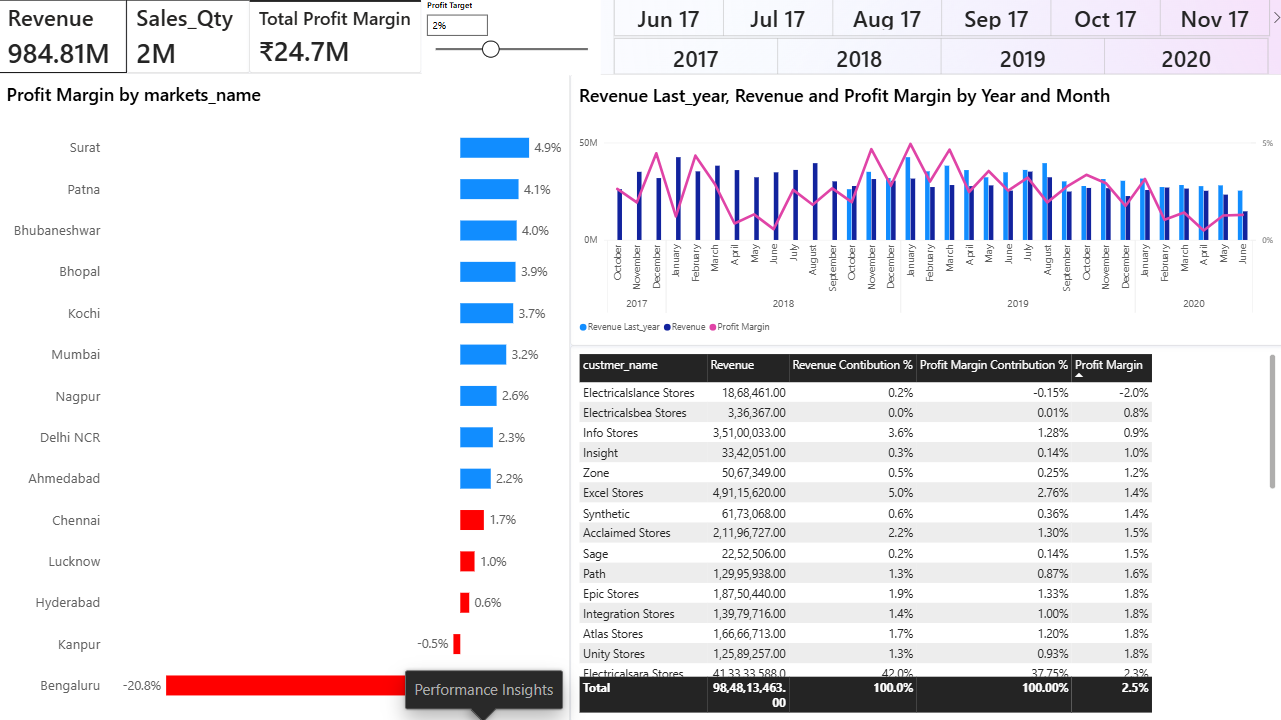

The page's visual inventory and layout, read from the dashboard file:
{"tool":"powerbi","page":{"name":"Performance Insights","canvas":[1920,1080],"ordinal":2},"visuals":[{"type":"cardVisual","fields":{"Data":["Base_Measure.Revenue"]},"box":[0,0,191.4,112.3],"z":0},{"type":"cardVisual","fields":{"Data":["Base_Measure.Sales_Qty"]},"box":[191.4,0,184.1,112.3],"z":1000},{"type":"advancedSlicerVisual","fields":{"Values":["sales date.year"]},"box":[899.4,59.7,1020.7,54.1],"z":4000},{"type":"advancedSlicerVisual","fields":{"Values":["sales date.cy_date"]},"box":[899.4,0,1020.7,57.8],"z":5000},{"type":"tableEx","title":"Top 5 customres","fields":{"Values":["sales customers.custmer_name","Base_Measure.Revenue","Base_Measure.Revenue Contibution %","Base_Measure.Profit Margin Contribution %","Base_Measure.Profit Margin"]},"box":[854,519,1065.6,561.4],"z":6000},{"type":"lineClusteredColumnComboChart","fields":{"Category":["sales date.cy_date.Variation.Date Hierarchy.Year","sales date.cy_date.Variation.Date Hierarchy.Month"],"Y":["Base_Measure.Revenue Last_year","Base_Measure.Revenue"],"Y2":["Base_Measure.Profit Margin"]},"box":[854,114.1,1065.6,404.9],"z":7000},{"type":"cardVisual","fields":{"Data":["Base_Measure.Total Profit Margin"]},"box":[375.1,1.9,257.5,110.1],"z":8000},{"type":"barChart","fields":{"Category":["sales markets.zone","sales markets.markets_name","sales customers.custmer_name","sales products.product_code"],"Y":["Base_Measure.Profit Margin"]},"box":[0,112.3,854,968.1],"z":9000},{"type":"slicer","fields":{"Values":["Profit Target.Profit Target"]},"box":[632.6,1.9,266.8,112],"z":9001}]}

Visuals, with their boxes in screenshot pixels (x1, y1, x2, y2), scaled from the page's 1920x1080 canvas onto the 1281x720 screenshot:
cardVisual - Base_Measure.Revenue: box(0, 0, 128, 75)
cardVisual - Base_Measure.Sales_Qty: box(128, 0, 251, 75)
advancedSlicerVisual - sales date.year: box(600, 40, 1280, 76)
advancedSlicerVisual - sales date.cy_date: box(600, 0, 1280, 39)
"Top 5 customres" tableEx: box(570, 346, 1280, 719)
lineClusteredColumnComboChart - sales date.cy_date.Variation.Date Hierarchy.Year x sales date.cy_date.Variation.Date Hierarchy.Month: box(570, 76, 1280, 346)
cardVisual - Base_Measure.Total Profit Margin: box(250, 1, 422, 75)
barChart - sales markets.zone x sales markets.markets_name: box(0, 75, 570, 719)
slicer - Profit Target.Profit Target: box(422, 1, 600, 76)
